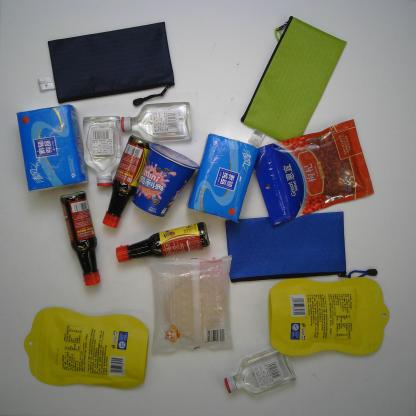Alcohol: (223, 345, 298, 397), (119, 100, 193, 144), (81, 114, 123, 188)
Dessert: (146, 252, 237, 358), (130, 140, 201, 218)
Dried Fruit: (251, 118, 376, 227), (21, 305, 152, 397), (268, 276, 390, 358)
Seasoner: (101, 133, 154, 230), (114, 219, 211, 264), (59, 190, 102, 287)
Stationery: (240, 13, 349, 150), (36, 18, 176, 106), (221, 209, 379, 285)
Tissue: (186, 130, 262, 226), (13, 102, 89, 194)
